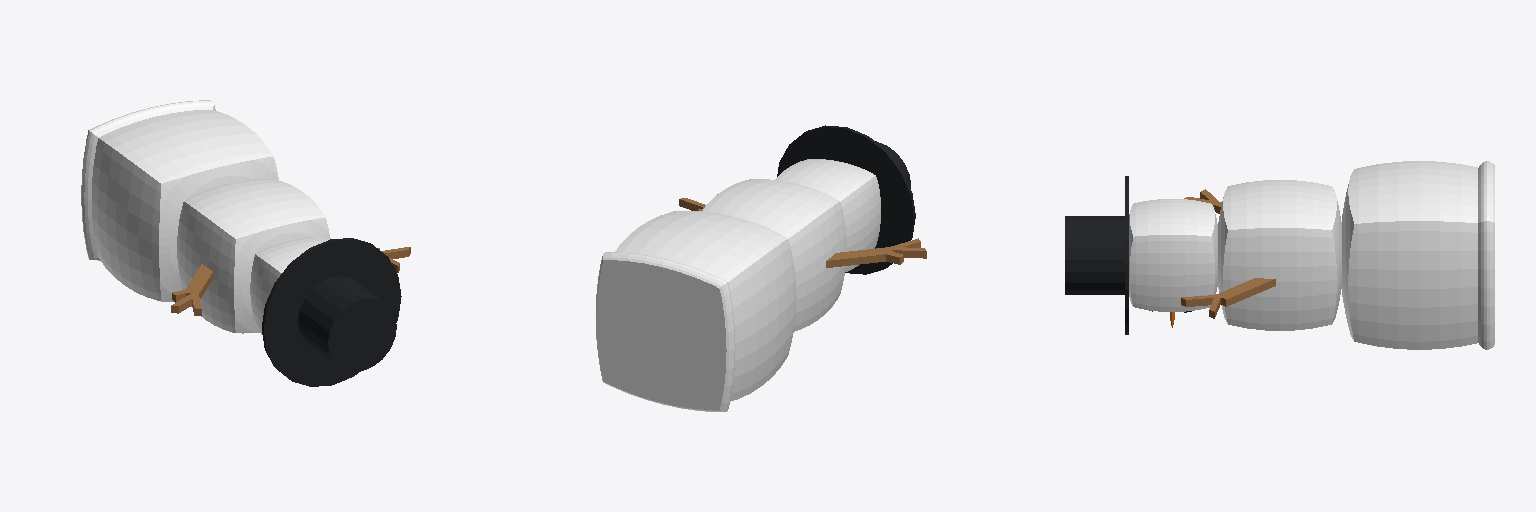
Rendered from blocky-the-snowman.obj.
The picture shows the model from 3 angles: view 1: azimuth 30°, elevation 25°; view 2: azimuth 150°, elevation 25°; view 3: azimuth 270°, elevation 25°; orthographic projection.
Visible parts, largest first — view 1: obj_0; view 2: obj_0; view 3: obj_0.
Boxes of the visible parts, x1=… form: obj_0: x1=81, y1=100, x2=410, y2=386; obj_0: x1=596, y1=125, x2=926, y2=411; obj_0: x1=1065, y1=161, x2=1494, y2=349.
Size of the model in its own units: 35.34 by 20 by 53.99.